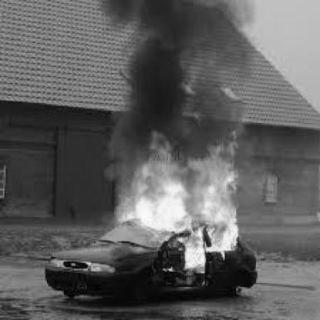Fire: (103, 118, 241, 271)
Smoke: (97, 3, 245, 111)
